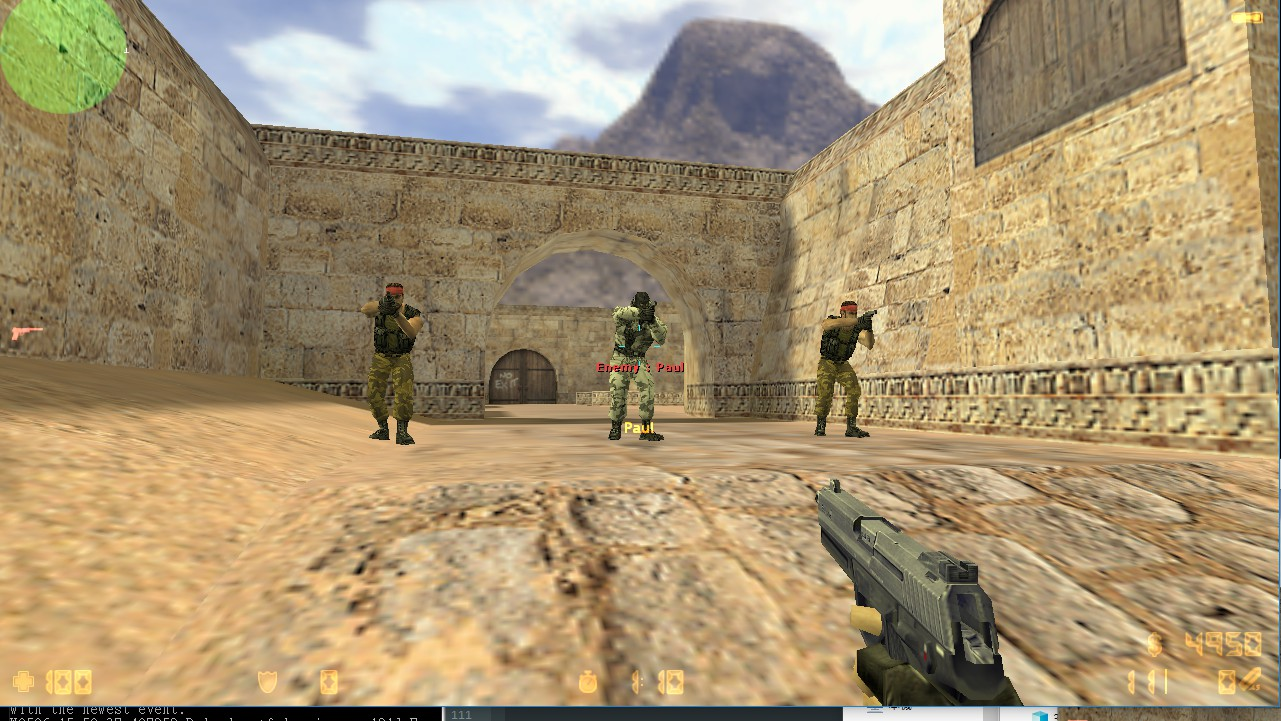person: (591, 279, 669, 448), (357, 277, 427, 451), (806, 291, 882, 447)
